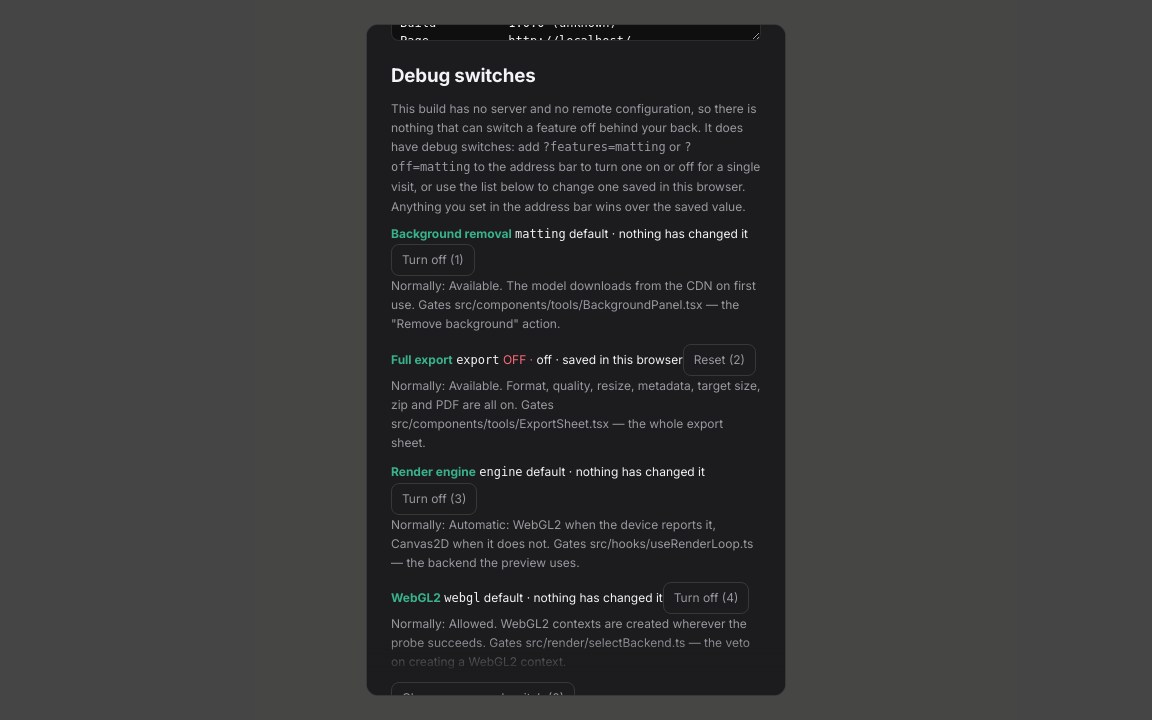
Test case: the debug switches surface › clears a saved flag in one click
(page scrolled)
Click the button "Reset (2)": coordinates (719, 360) [683, 344, 756, 376]
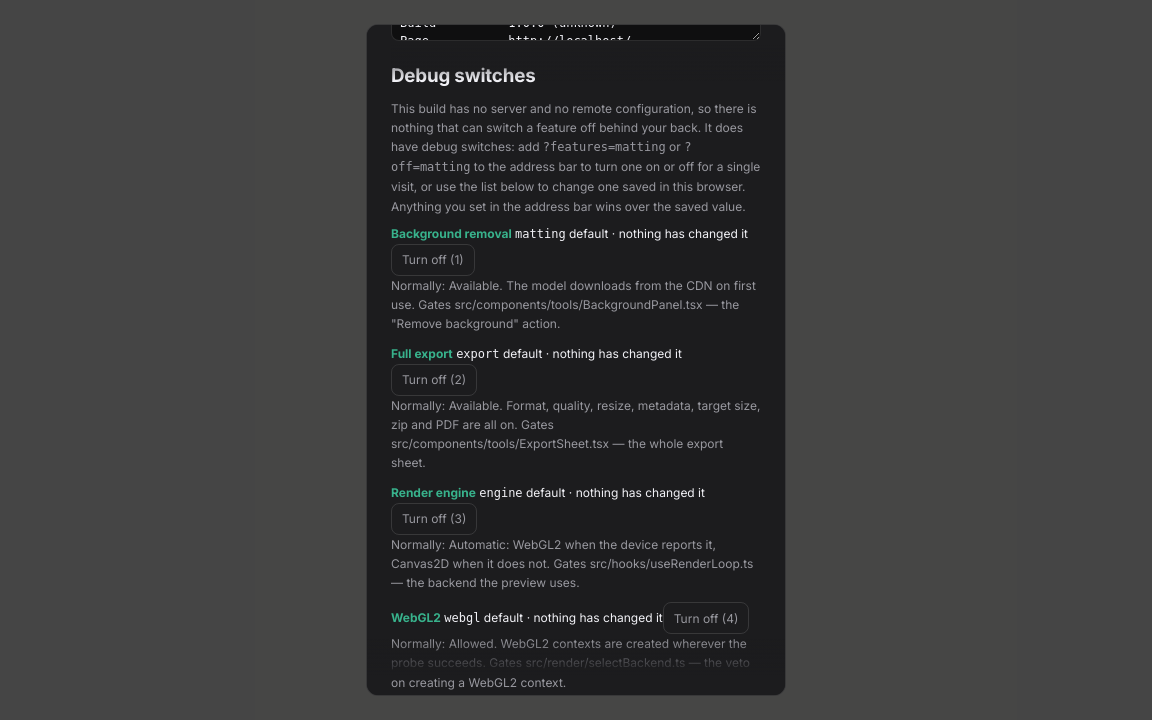
Expected: the list item that starts with "Full export" shows "nothing has changed it", [552, 346, 682, 361]
